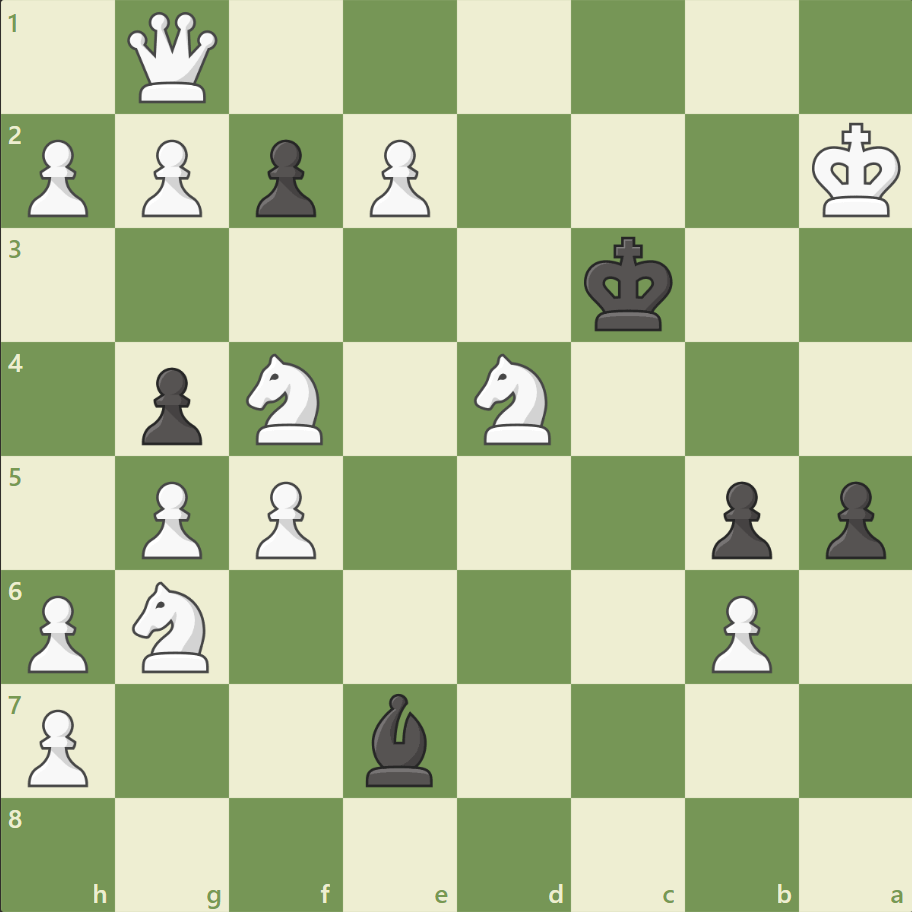K: (806, 117, 906, 225)
N: (124, 575, 222, 677), (465, 348, 562, 450), (238, 348, 335, 450)
P: (20, 700, 95, 791), (701, 586, 776, 677), (20, 586, 95, 677), (247, 473, 322, 564), (133, 473, 208, 564), (133, 132, 208, 223), (20, 132, 95, 223), (361, 132, 435, 223)
Q: (124, 9, 223, 108)
b: (358, 687, 442, 790)
k: (579, 231, 679, 339)
p: (701, 473, 776, 564), (133, 359, 208, 450), (247, 132, 322, 223), (815, 473, 889, 564)
